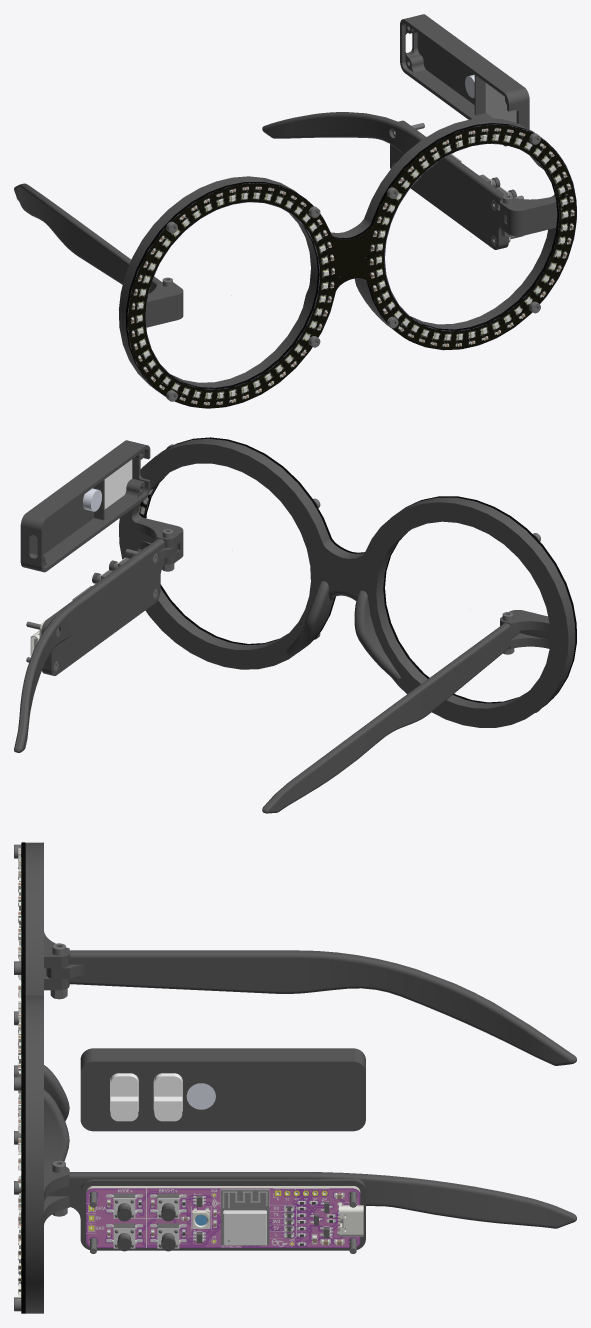
File: lsg_glasses_3d_model_web_ani8.glb
3 views of the same model, one above another, from view 1: azimuth 30°, elevation 25°; view 2: azimuth 150°, elevation 25°; view 3: azimuth 270°, elevation 25° (orthographic). The views are drawn at different scales.
Parts seen in each view (by area): view 1: Body1.048, Mainframe, Right_Temple_Fast_Display, LogicPCB_Cover, Left_Temple, Button_Membrane; view 2: Mainframe, Right_Temple_Fast_Display, LogicPCB_Cover, Left_Temple, Body1.048, Button_Membrane; view 3: LogicPCB_Cover, Left_Temple, Mainframe, Right_Temple_Fast_Display, Body1.011, Button_Membrane, Body1.048, Body12, Body25, StatusLED_Diffuser.
Boxes of the visible parts, x1,y1,x2,y2 form: Body1.048: [126, 123, 576, 408]; Mainframe: [119, 118, 557, 388]; Right_Temple_Fast_Display: [262, 112, 508, 249]; LogicPCB_Cover: [400, 14, 529, 146]; Left_Temple: [14, 183, 161, 293]; Button_Membrane: [485, 83, 516, 122]; Mainframe: [119, 438, 575, 727]; Right_Temple_Fast_Display: [14, 538, 177, 752]; LogicPCB_Cover: [20, 440, 150, 572]; Left_Temple: [262, 623, 519, 813]; Body1.048: [138, 437, 576, 705]; Button_Membrane: [104, 459, 132, 509]; LogicPCB_Cover: [80, 1048, 365, 1131]; Left_Temple: [46, 950, 576, 1065]; Mainframe: [25, 842, 69, 1313]; Right_Temple_Fast_Display: [48, 1172, 576, 1250]; Body1.011: [86, 1186, 360, 1247]; Button_Membrane: [110, 1073, 182, 1121]; Body1.048: [21, 842, 25, 1313]; Body12: [223, 1210, 266, 1245]; Body25: [221, 1189, 269, 1245]; StatusLED_Diffuser: [186, 1083, 215, 1109].
Size of the model in its own units: 0.186 by 0.087 by 0.1539.
Materials: 36 (4 with a texture image).
